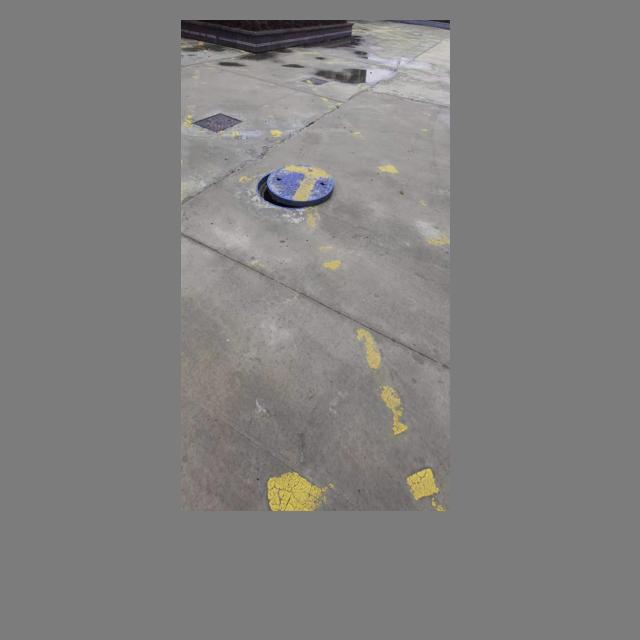uncovered: (256, 166, 333, 209)
